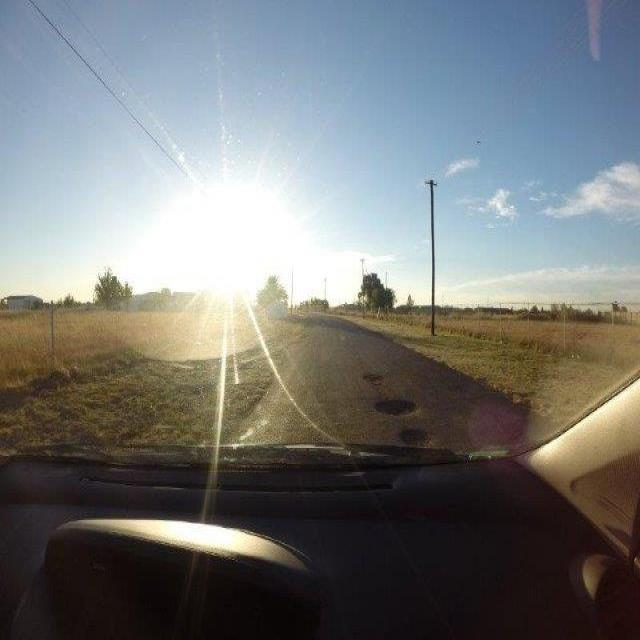lubang: (371, 396, 421, 419), (396, 427, 436, 453), (357, 366, 384, 386)
